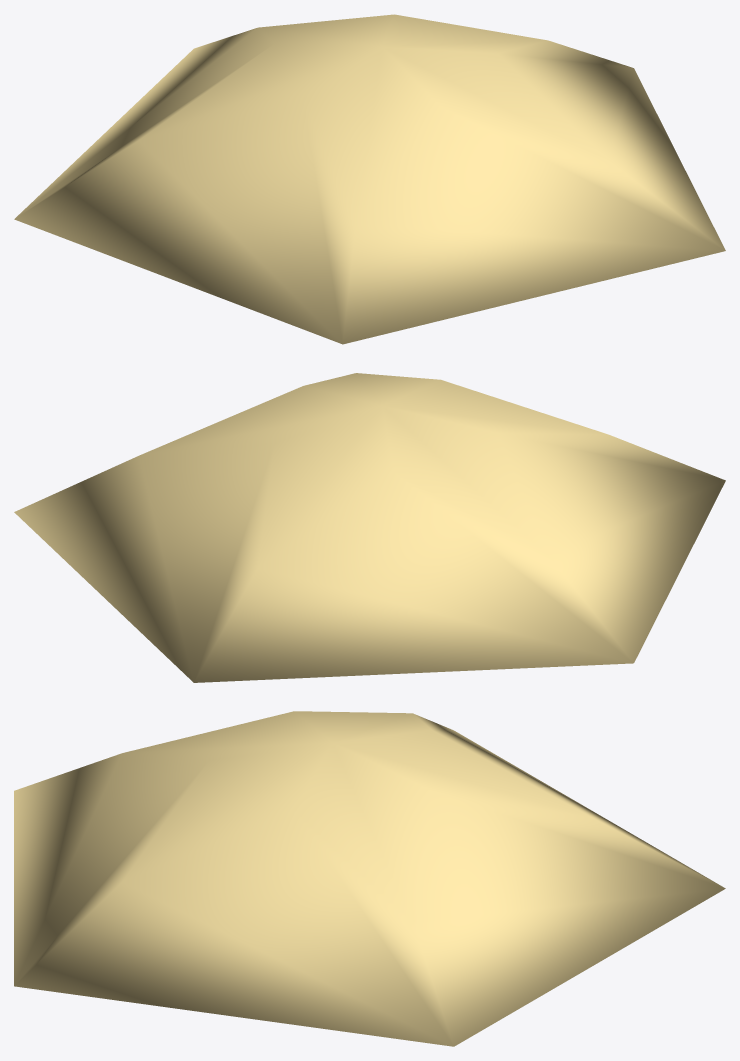
File: Sand.fbx
The picture shows the model from 3 angles, top to bottom: view 1: azimuth 30°, elevation 25°; view 2: azimuth 150°, elevation 25°; view 3: azimuth 270°, elevation 25°; orthographic projection. The views are drawn at different scales.
Parts seen in each view (by area): view 1: Cone; view 2: Cone; view 3: Cone.
Part boxes in pixels (x1=…): Cone: x1=14, y1=14, x2=725, y2=344; Cone: x1=14, y1=373, x2=725, y2=682; Cone: x1=14, y1=711, x2=725, y2=1046.
Size of the model in its own units: 190 by 40.85 by 181.
